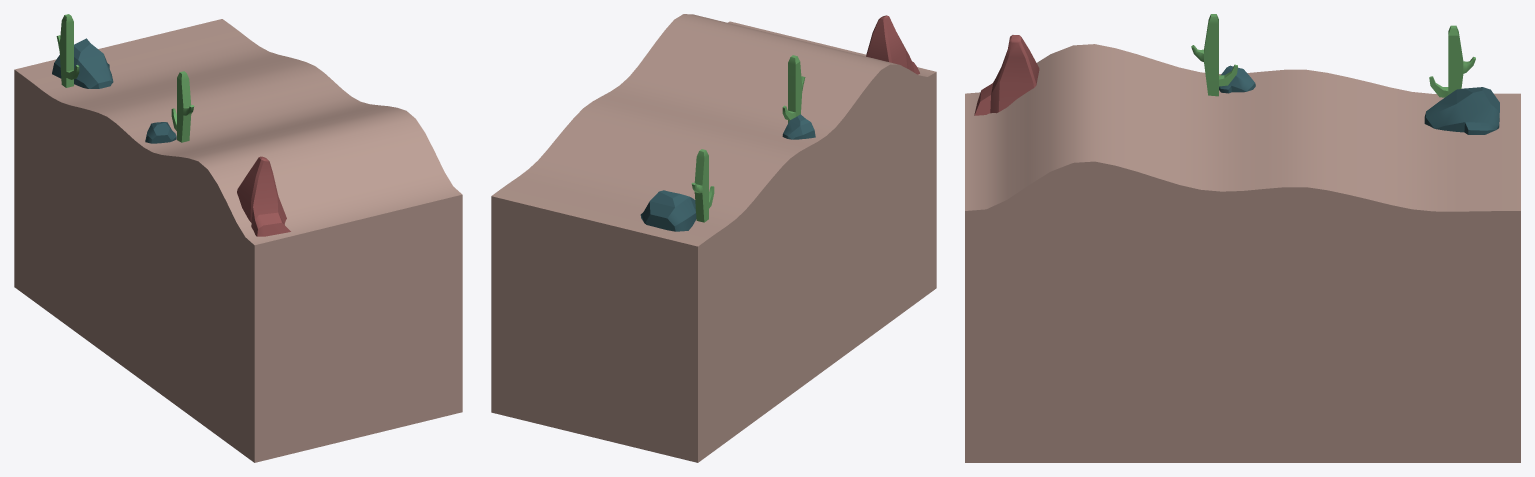
File: New-Land-SLOPE_RIGHT.fbx
3 views of the same model, side by side, from view 1: azimuth 30°, elevation 25°; view 2: azimuth 150°, elevation 25°; view 3: azimuth 270°, elevation 25° (orthographic). The views are drawn at different scales.
Visible parts, largest first — view 1: Land_Modules:Slope_Left, Rock__3_pCube1, Rock:pCube1, pCube1, pCube2, Rock:pCube2; view 2: Land_Modules:Slope_Left, Rock:pCube1, Rock__3_pCube1, pCube1, pCube2, Rock:pCube2; view 3: Land_Modules:Slope_Left, Rock:pCube1, Rock__3_pCube1, pCube2, pCube1, Rock:pCube2.
Part boxes in pixels (x1=…): Land_Modules:Slope_Left: x1=14, y1=19, x2=462, y2=462; Rock__3_pCube1: x1=237, y1=156, x2=290, y2=236; Rock:pCube1: x1=52, y1=38, x2=113, y2=88; pCube1: x1=56, y1=14, x2=79, y2=87; pCube2: x1=171, y1=71, x2=194, y2=142; Rock:pCube2: x1=145, y1=122, x2=176, y2=143; Land_Modules:Slope_Left: x1=491, y1=14, x2=936, y2=462; Rock:pCube1: x1=640, y1=190, x2=696, y2=231; Rock__3_pCube1: x1=866, y1=15, x2=919, y2=74; pCube1: x1=691, y1=149, x2=714, y2=222; pCube2: x1=782, y1=55, x2=805, y2=123; Rock:pCube2: x1=782, y1=114, x2=815, y2=139; Land_Modules:Slope_Left: x1=965, y1=44, x2=1520, y2=462; Rock:pCube1: x1=1424, y1=87, x2=1499, y2=134; Rock__3_pCube1: x1=974, y1=35, x2=1039, y2=115; pCube2: x1=1191, y1=14, x2=1237, y2=96; pCube1: x1=1429, y1=25, x2=1475, y2=97; Rock:pCube2: x1=1219, y1=65, x2=1255, y2=93.
Size of the model in its own units: 1000 by 1392 by 2000.
